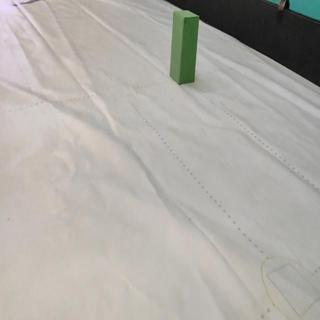greenbox: (169, 9, 201, 85)
